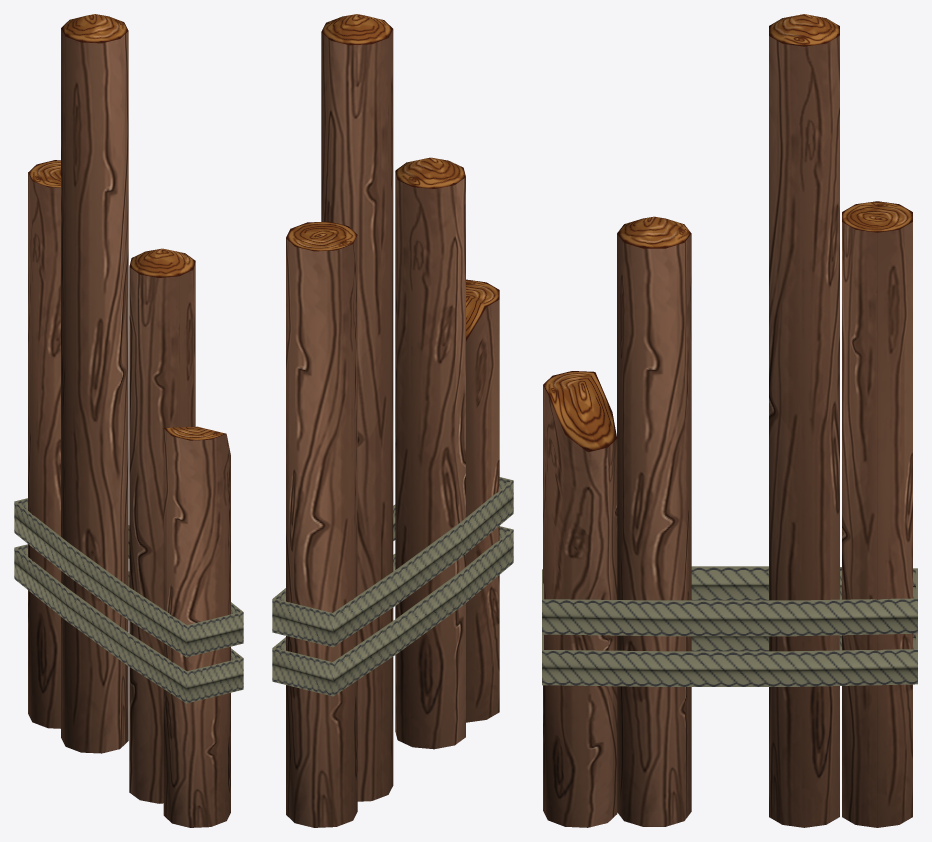
File: Fence_2.fbx
3 renders of one model, left to right at view 1: azimuth 30°, elevation 25°; view 2: azimuth 150°, elevation 25°; view 3: azimuth 270°, elevation 25°, orthographic. The views are drawn at different scales.
Parts seen in each view (by area): view 1: Fence_2; view 2: Fence_2; view 3: Fence_2.
Part boxes in pixels (x1,y1,x2,y2): Fence_2: (14,14,243,827); Fence_2: (272,14,513,827); Fence_2: (542,14,917,827).
Bounding box in the file's own units: 0.4494 × 4.72 × 2.01.
